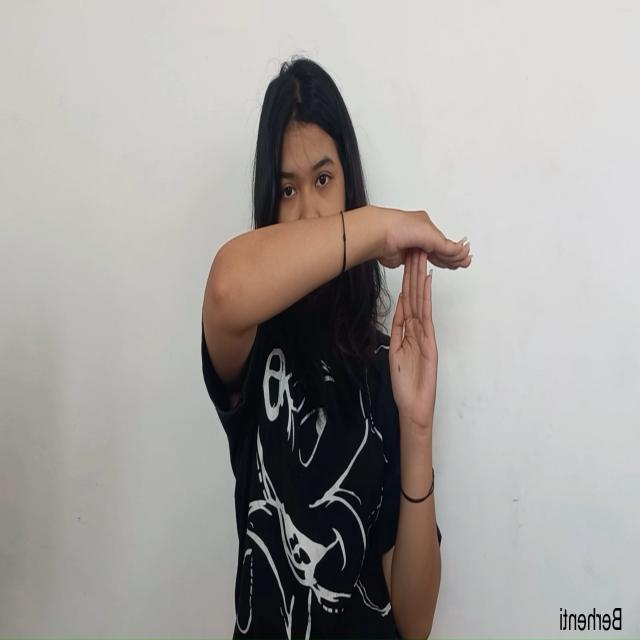Berhenti -BISINDO-: (363, 200, 475, 450)
